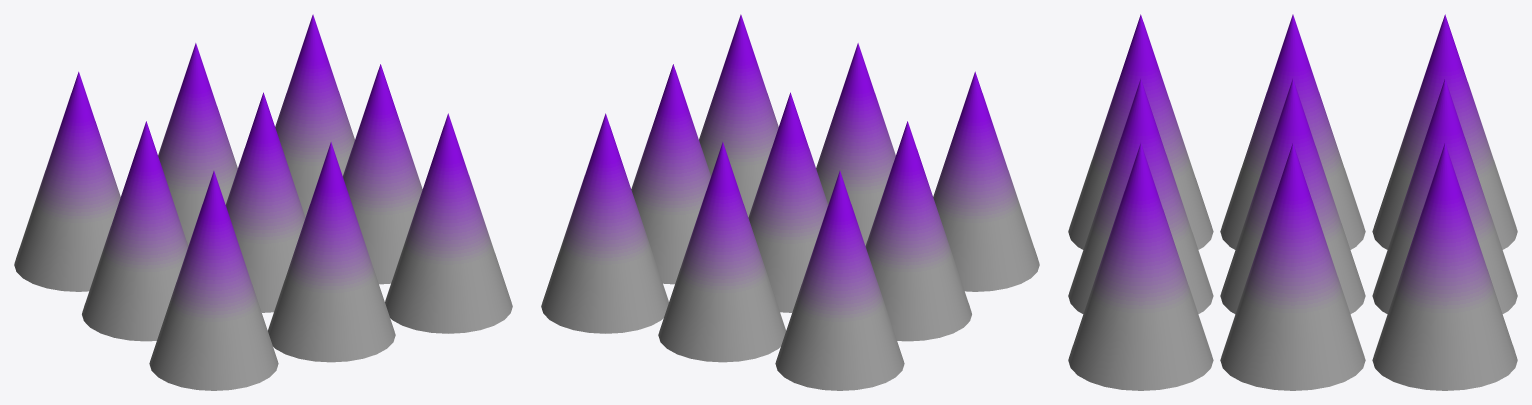
The model's file is Toge.fbx.
3 views of the same model, side by side, from view 1: azimuth 30°, elevation 25°; view 2: azimuth 150°, elevation 25°; view 3: azimuth 270°, elevation 25° (orthographic). The views are drawn at different scales.
Parts seen in each view (by area): view 1: Toge; view 2: Toge; view 3: Toge.
Boxes of the visible parts, <box> form: Toge: <box>14,14,512,390</box>; Toge: <box>541,14,1039,390</box>; Toge: <box>1068,14,1517,390</box>.
Size of the model in its own units: 65.03 by 34.74 by 65.03.
1 material, 1 textured.
